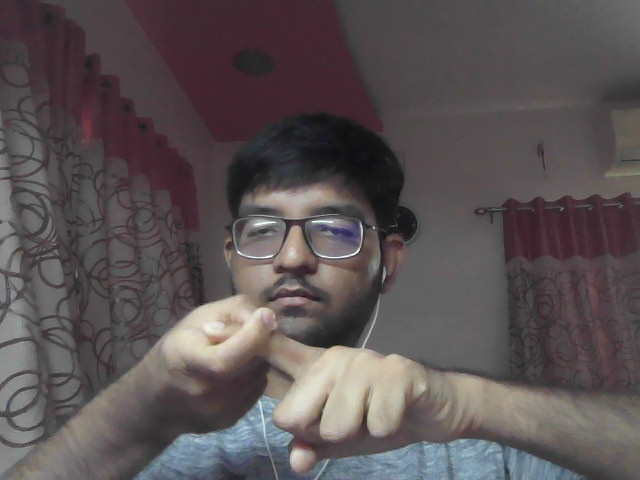મિત્ર: (126, 282, 478, 480)
